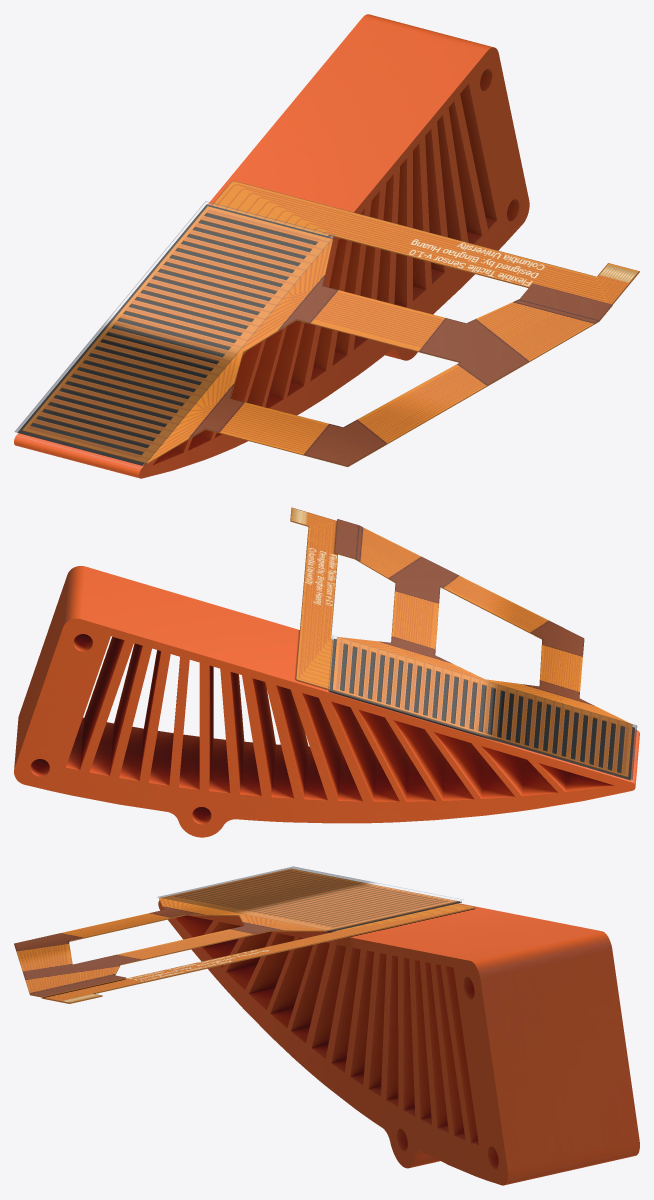
The model's file is flexitac-umi.glb.
The picture shows the model from 3 angles, top to bottom: view 1: azimuth 30°, elevation 25°; view 2: azimuth 150°, elevation 25°; view 3: azimuth 270°, elevation 25°; orthographic projection. The views are drawn at different scales.
Parts seen in each view (by area): view 1: UMI_finger, FPC_outer_web, Laminate_top_web, Velostat_web, FPC_inner_web; view 2: UMI_finger, FPC_outer_web, Laminate_top_web, Velostat_web, FPC_inner_web; view 3: UMI_finger, FPC_outer_web, Laminate_top_web, FPC_inner_web.
Part boxes in pixels (x1,y1,x2,y2): UMI_finger: (14, 14, 529, 478); FPC_outer_web: (22, 206, 612, 466); Laminate_top_web: (14, 201, 334, 465); Velostat_web: (18, 204, 330, 465); FPC_inner_web: (212, 180, 639, 304); UMI_finger: (14, 566, 639, 837); FPC_outer_web: (332, 519, 632, 777); Laminate_top_web: (328, 635, 637, 779); Velostat_web: (329, 638, 634, 780); FPC_inner_web: (290, 507, 337, 689); UMI_finger: (158, 900, 639, 1185); FPC_outer_web: (14, 868, 457, 997); Laminate_top_web: (157, 866, 462, 930); FPC_inner_web: (41, 903, 475, 1003).
Size of what is drawn, in the model's own units: 0.1256 by 0.0495 by 0.1081.
Materials: 10 (8 with a texture image).
